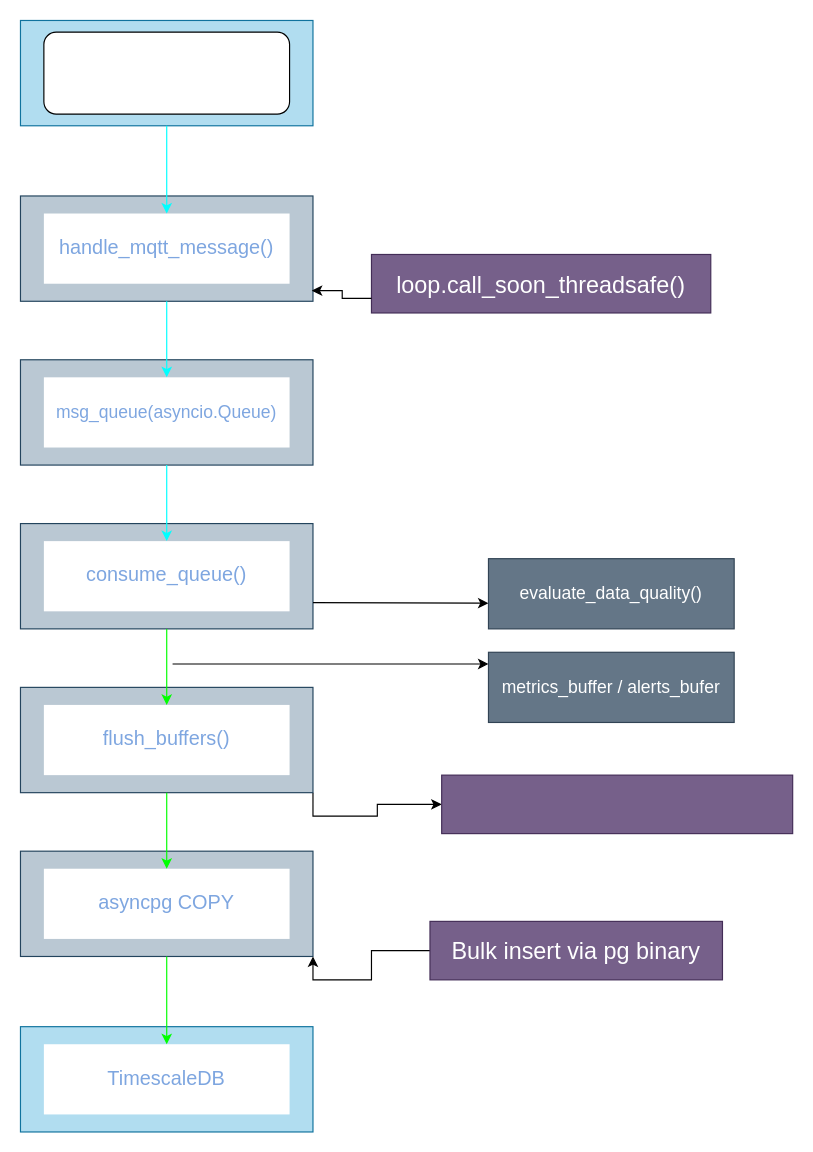
This 813x1152 diagram has some shape labels left out. The shapes that lost their labels are listed below. From the top down, each one's centre as x and y in pixels, then its label:
At point 166,72: "MQTT Broker".
At point 617,804: "triggered by size (100 row)".
